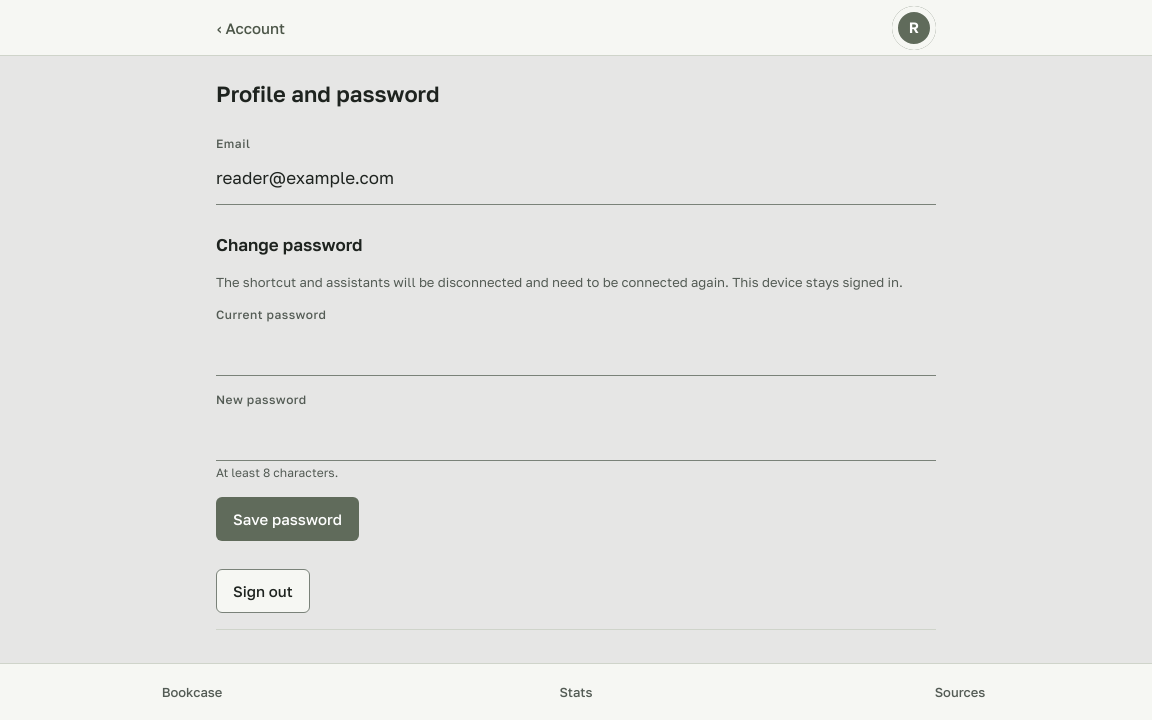
Test: Account › change password › shows field errors and confirms the change
Click the button "Save password" at (288, 519), box 216,497 -> 359,541
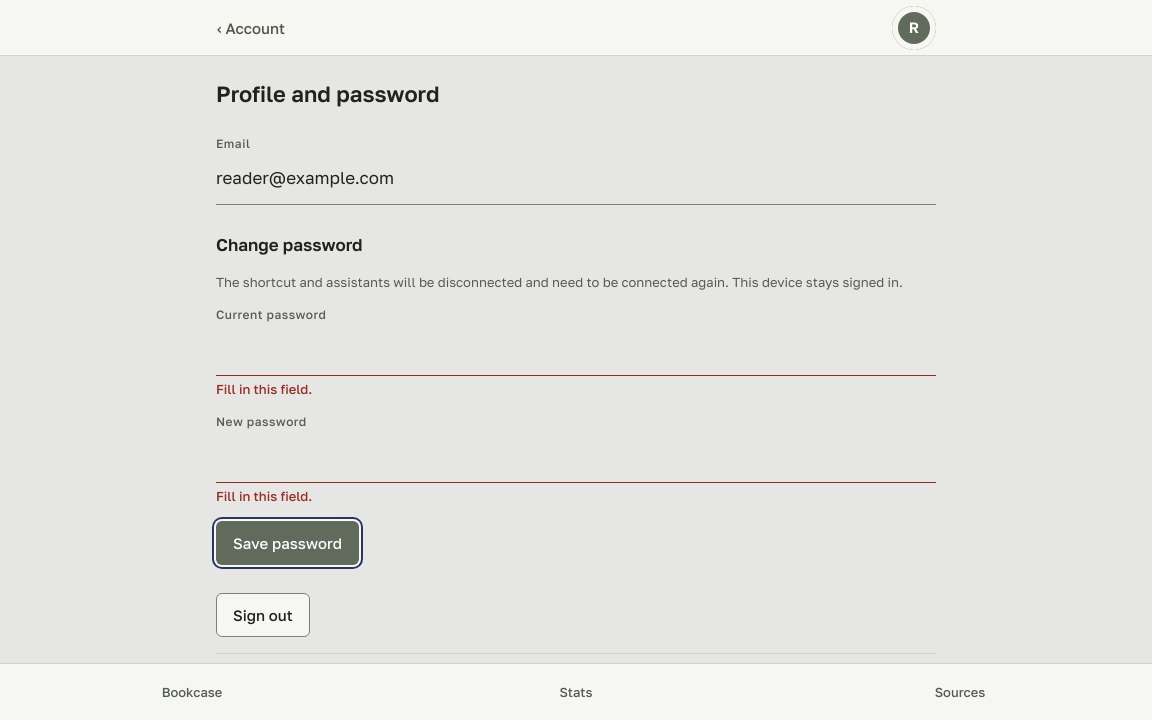
Type "nope" into the password field labelled "Current password" at (576, 352), box 216,327 -> 936,376
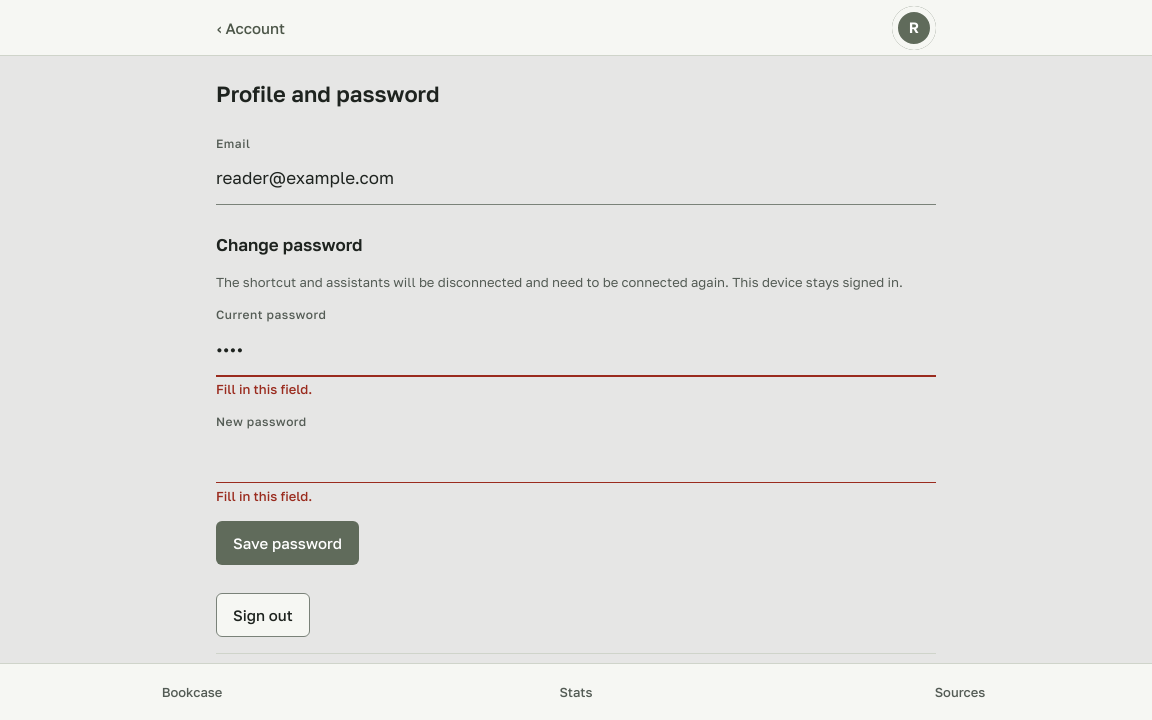
Type "new-password" into the password field labelled "New password" at (576, 458), box 216,434 -> 936,483
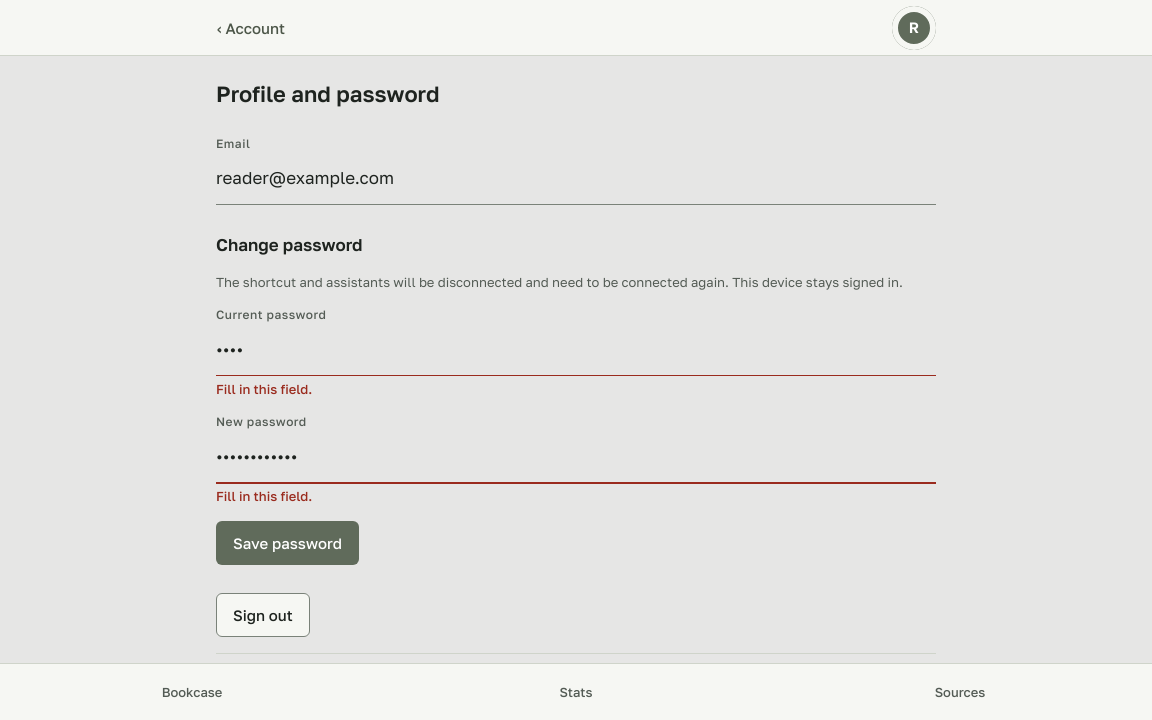
Click the button "Save password" at (288, 543), box 216,521 -> 359,565
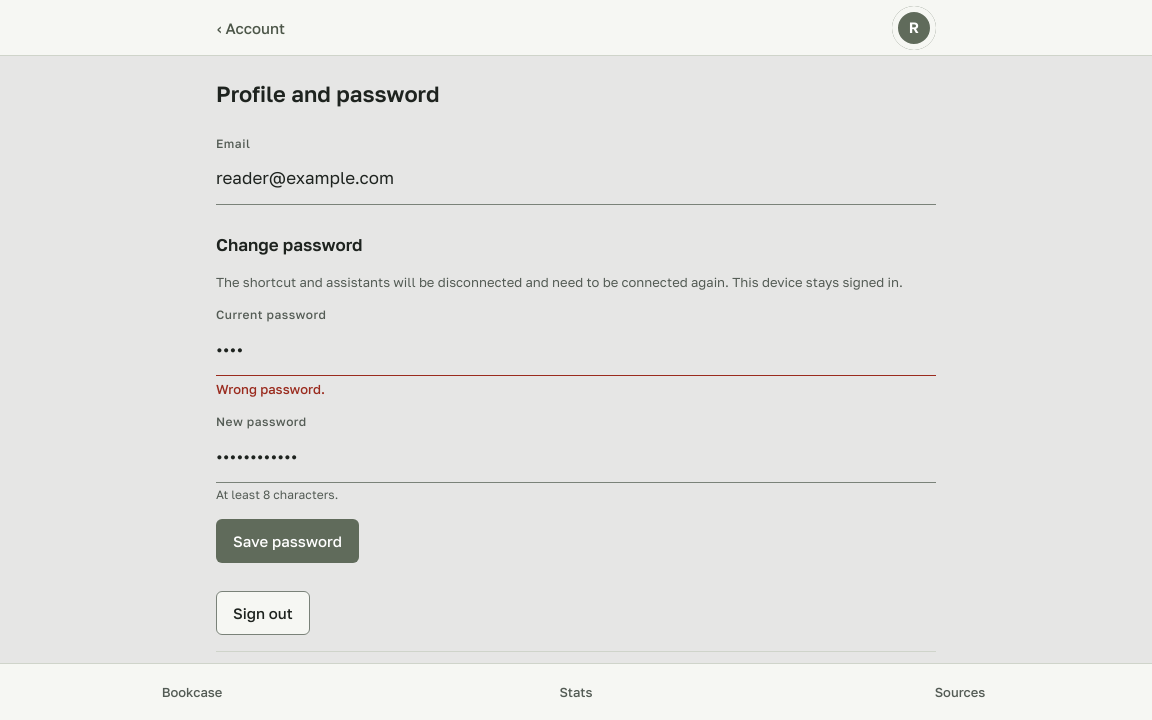
Expected: the text "Wrong password." is shown, 216,381 -> 325,397
Click the button "Save password" at (288, 541), box 216,519 -> 359,563
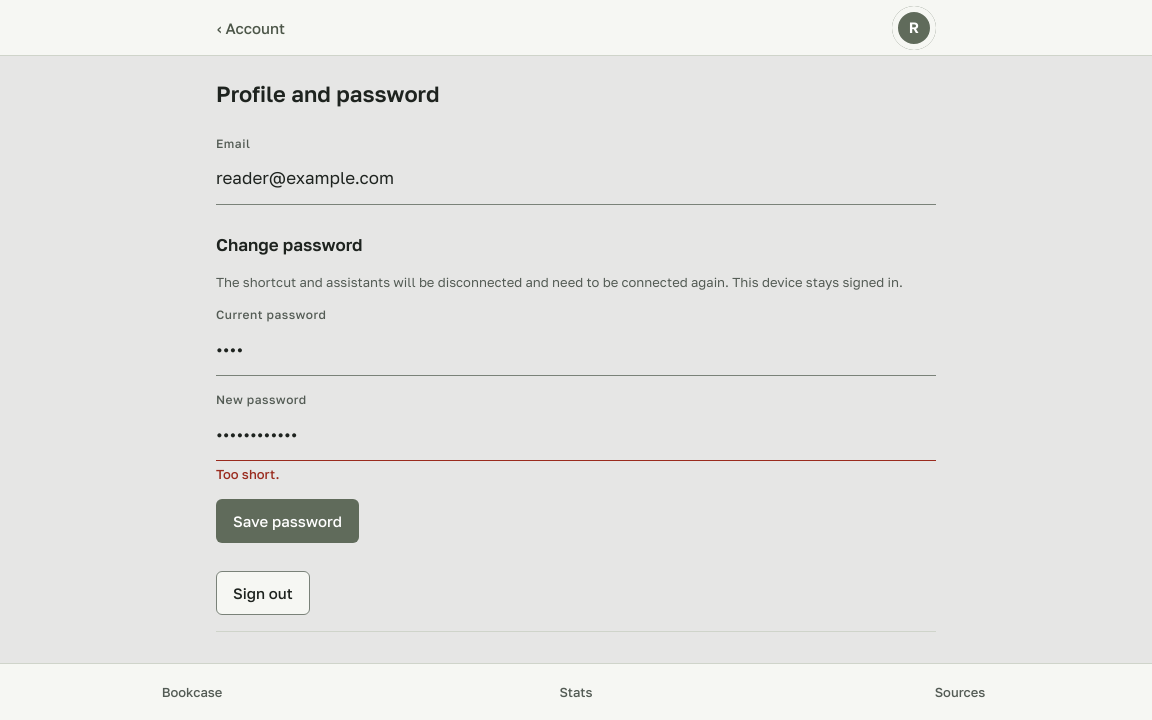
Expected: the text "Too short." is shown, 216,466 -> 280,482
Click the button "Save password" at (288, 521), box 216,499 -> 359,543
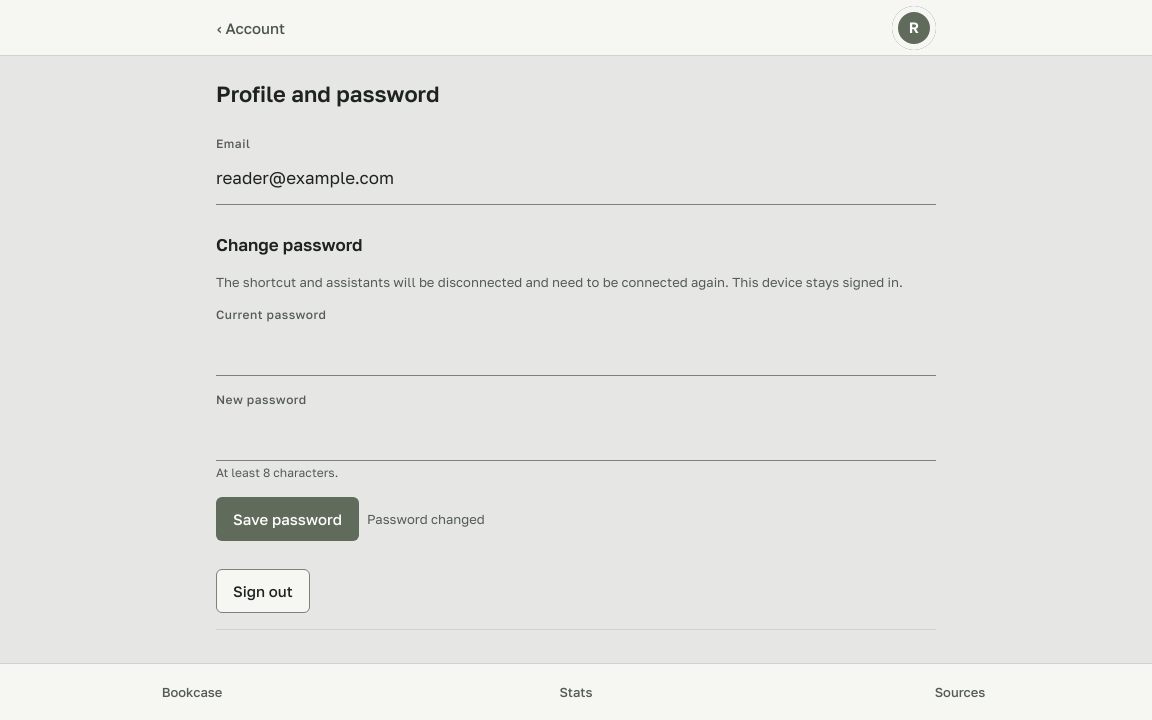
Expected: the text "Password changed" is shown, 367,510 -> 485,528
Expected: the password field labelled "Current password" is empty, 216,327 -> 936,376
